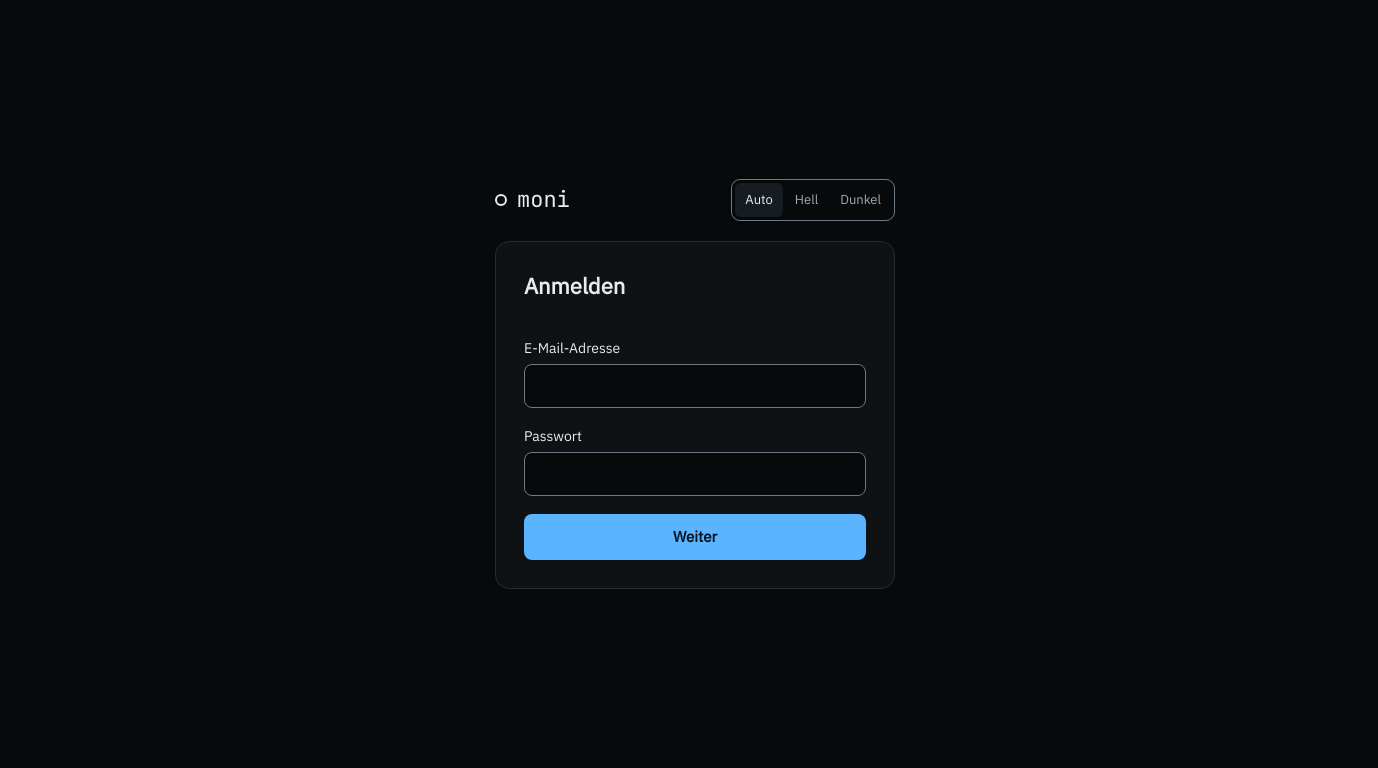
Login › Passwort-Login mit Stage full von /login landet auf /, nicht zurück im Login
This screenshot has width=1378, height=768.
Type "robin@example.test" into the field labelled "E-Mail-Adresse" at (695, 386), box [524,364,866,408]
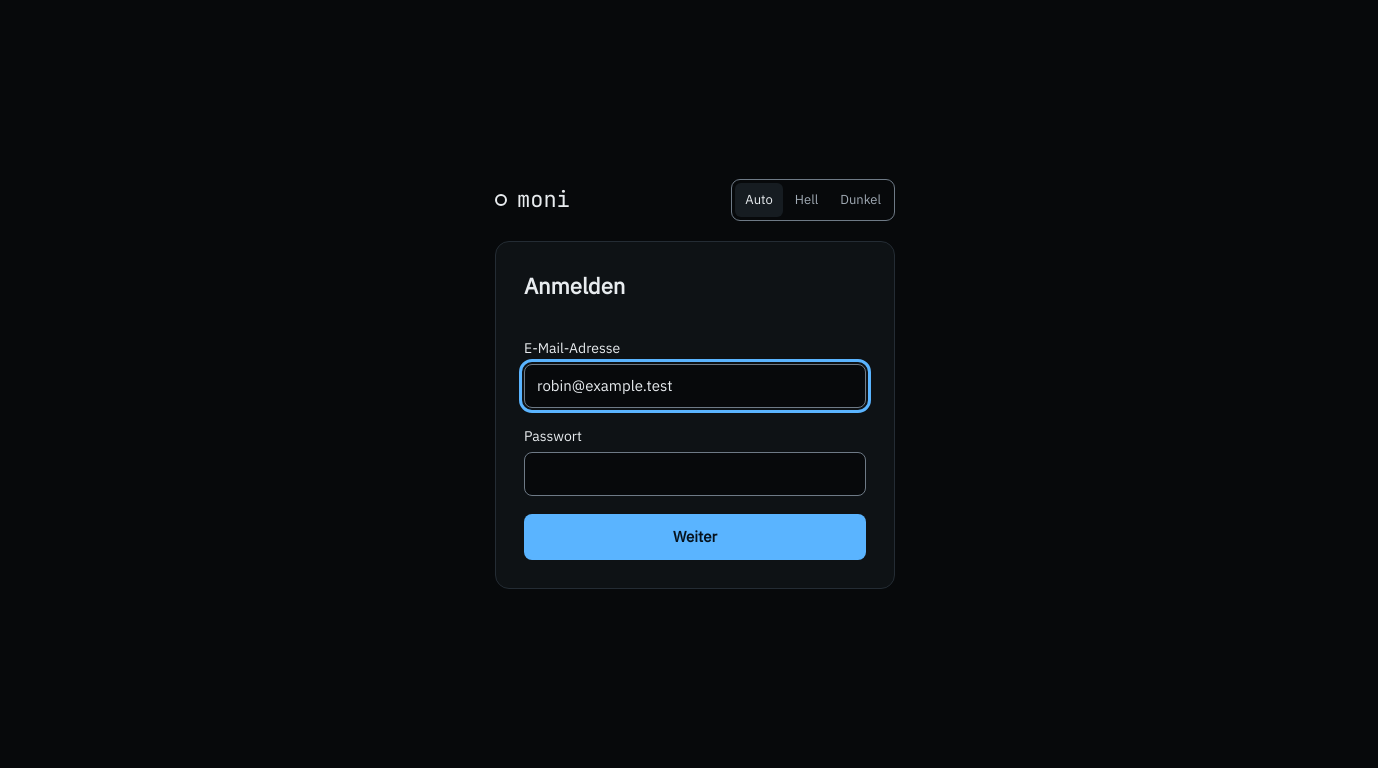
Type "geheim-1234" into the password field labelled "Passwort" at (695, 474), box [524,452,866,496]
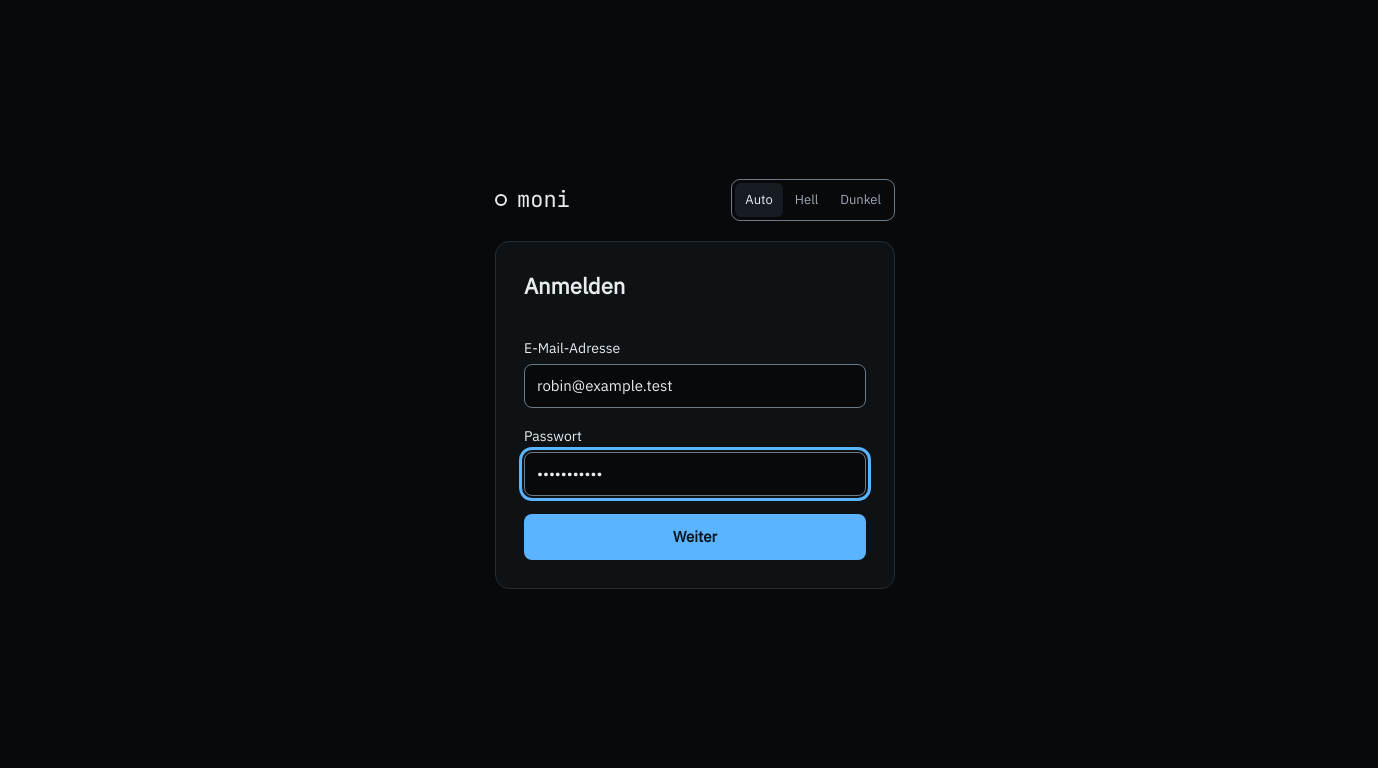
Click the button "Weiter" at (695, 537), box [524,514,866,560]
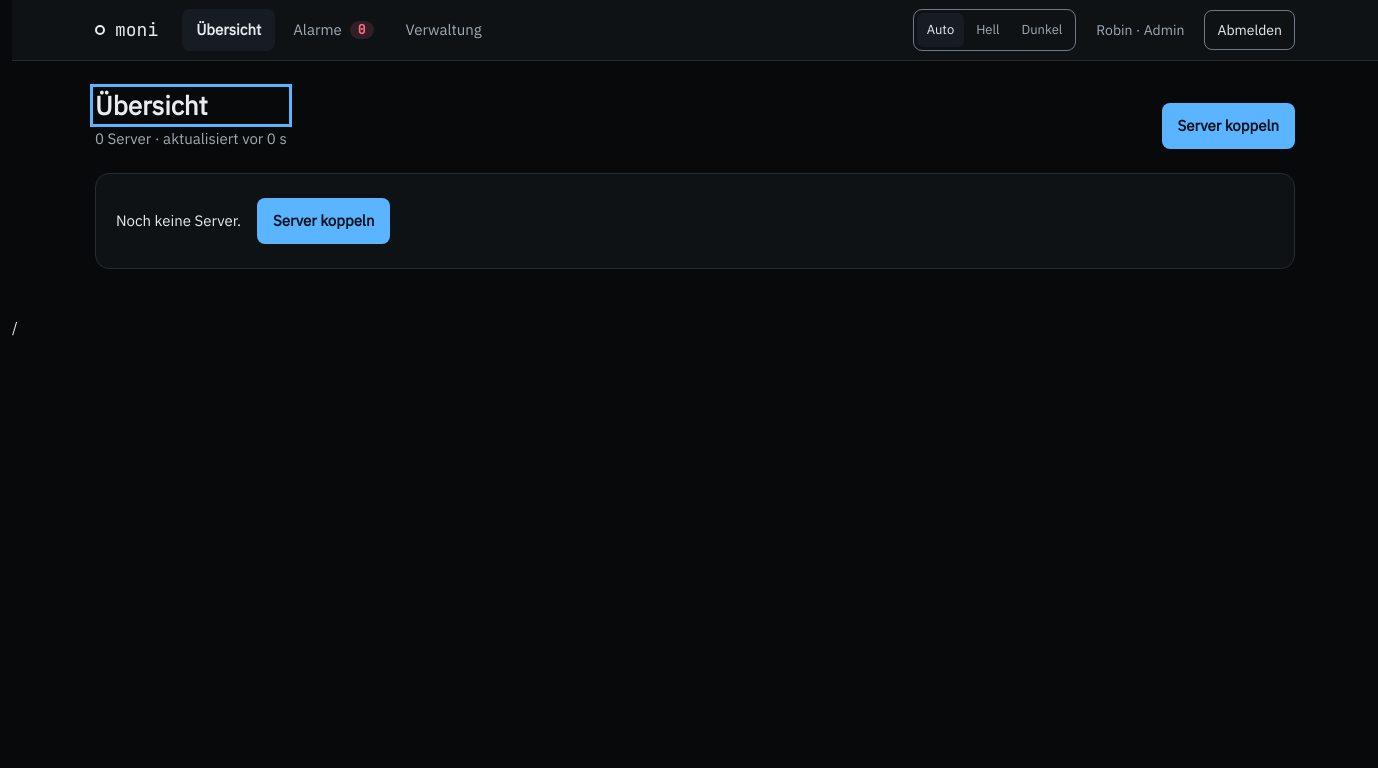
Check: the heading "Übersicht" is shown, box [95,88,208,122]
